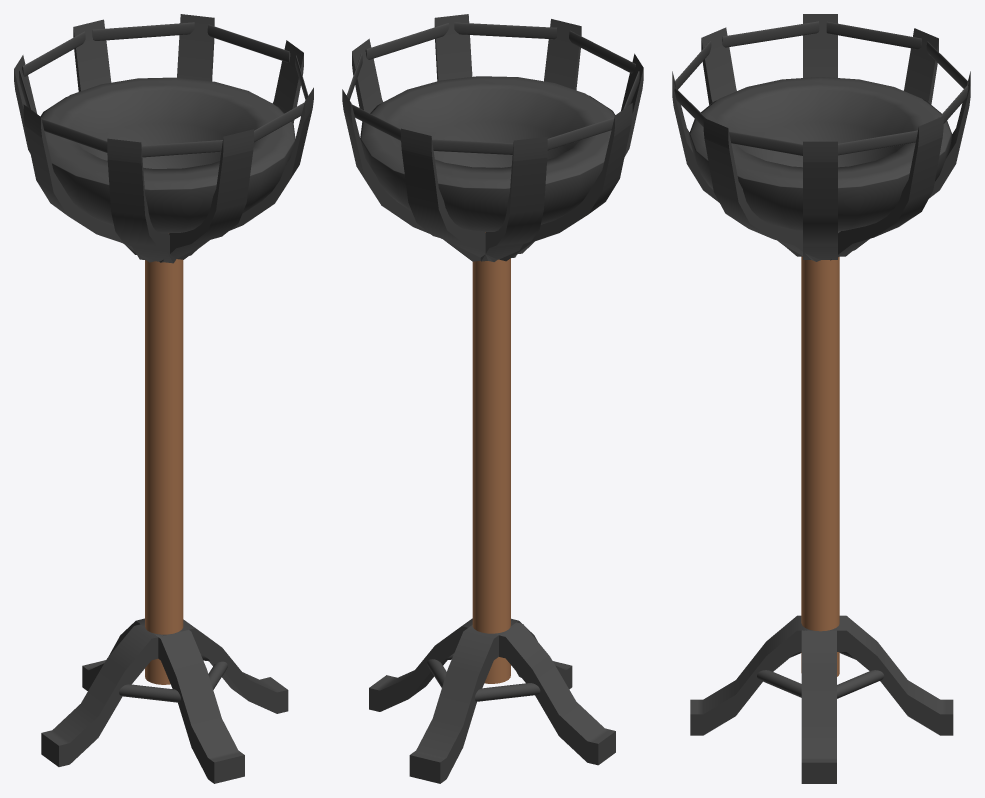
File: Brasero_Mesh.fbx
3 renders of one model, left to right at view 1: azimuth 30°, elevation 25°; view 2: azimuth 150°, elevation 25°; view 3: azimuth 270°, elevation 25°, orthographic.
Parts seen in each view (by area): view 1: pSphere1, pCylinder1, pCube1, pCube4, pCube7, pCube5, pCube11, pCube3, pCube8, pCube6, pCube10, pCube12 (+9 smaller); view 2: pSphere1, pCylinder1, pCube2, pCube4, pCube9, pCube6, pCube11, pCube3, pCube8, pCube10, pCube5, pCube12 (+8 smaller); view 3: pSphere1, pCylinder1, pCube3, pCube2, pCube12, pCube1, pCube8, pCube10, pCube11, pCube7, pCube9, pCylinder10 (+7 smaller).
Part boxes in pixels (x1,y1,x2,y2): pSphere1: (40,77,295,233); pCylinder1: (145,259,183,684); pCube1: (153,630,244,783); pCube4: (41,624,168,766); pCube7: (107,138,176,263); pCube5: (159,129,253,262); pCube11: (23,104,154,262); pCube3: (179,619,288,713); pCube8: (177,14,214,81); pCube6: (73,19,111,91); pCube10: (177,87,313,259); pCube12: (272,40,303,122); pSphere1: (360,76,615,231); pCylinder1: (472,232,510,683); pCube2: (409,625,498,783); pCube4: (493,621,615,765); pCube9: (480,136,547,261); pCube6: (401,128,497,261); pCube11: (499,103,632,261); pCube3: (369,618,472,711); pCube8: (342,89,480,261); pCube10: (434,14,472,81); pCube5: (544,19,581,90); pCube12: (352,38,382,121); pSphere1: (689,77,951,231); pCylinder1: (801,256,839,676); pCube3: (801,630,836,783); pCube2: (828,615,953,735); pCube12: (803,141,837,259); pCube1: (690,615,812,735); pCube8: (830,116,943,260); pCube10: (703,118,820,261); pCube11: (803,14,837,77); pCube7: (701,27,736,104); pCube9: (903,28,938,104); pCylinder10: (722,21,819,47).
Size of the model in its own units: 8.62 by 20.48 by 8.51.
